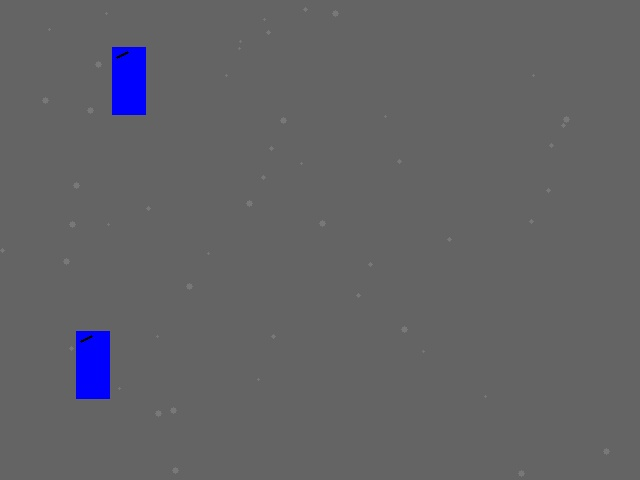motorcycle: (76, 331, 109, 398), (112, 47, 145, 114)
